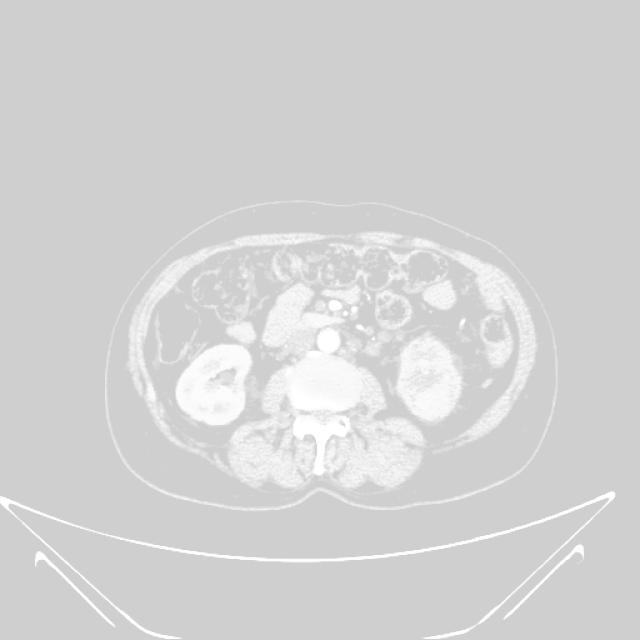TUMOR: (125, 295, 454, 442)
